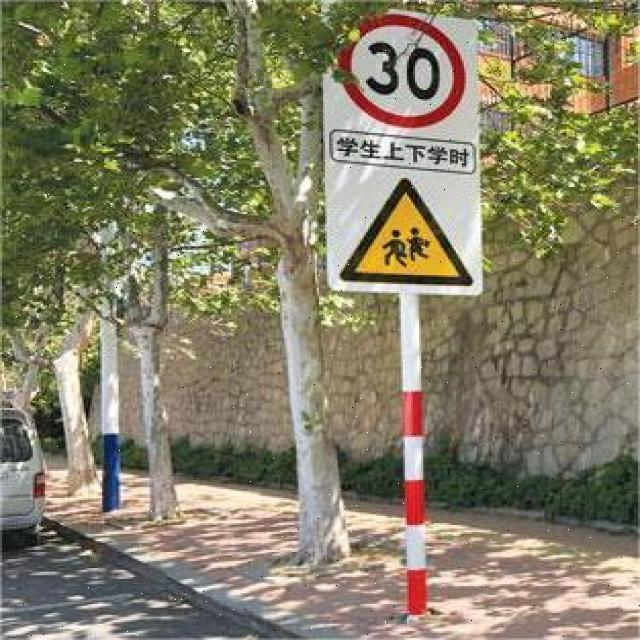speed limit 30: (343, 14, 466, 129)
